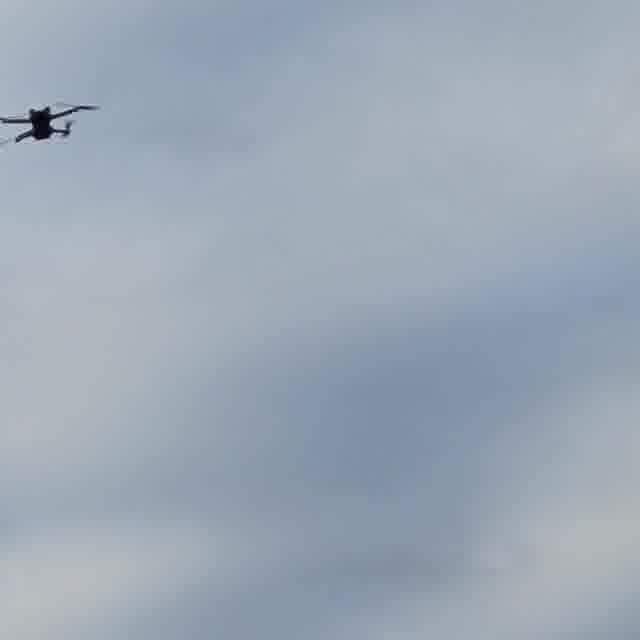Drohne: (0, 104, 99, 143)
